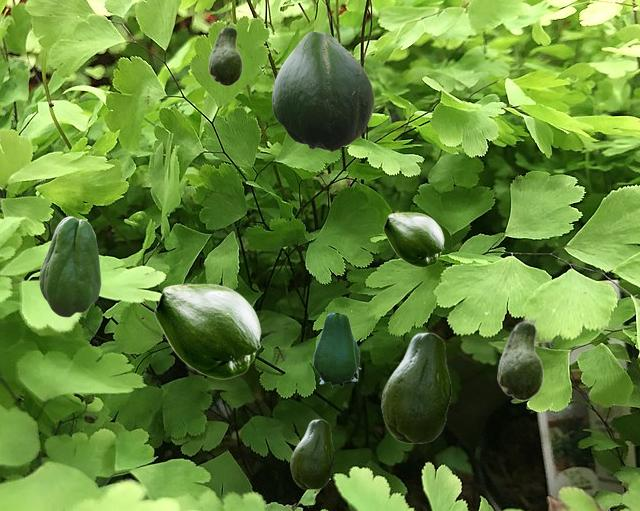sayote: (272, 31, 373, 151), (154, 283, 260, 378), (381, 332, 450, 442), (39, 216, 100, 316), (497, 321, 542, 400), (313, 313, 360, 387), (383, 212, 443, 266), (290, 419, 333, 488), (208, 26, 241, 85)
